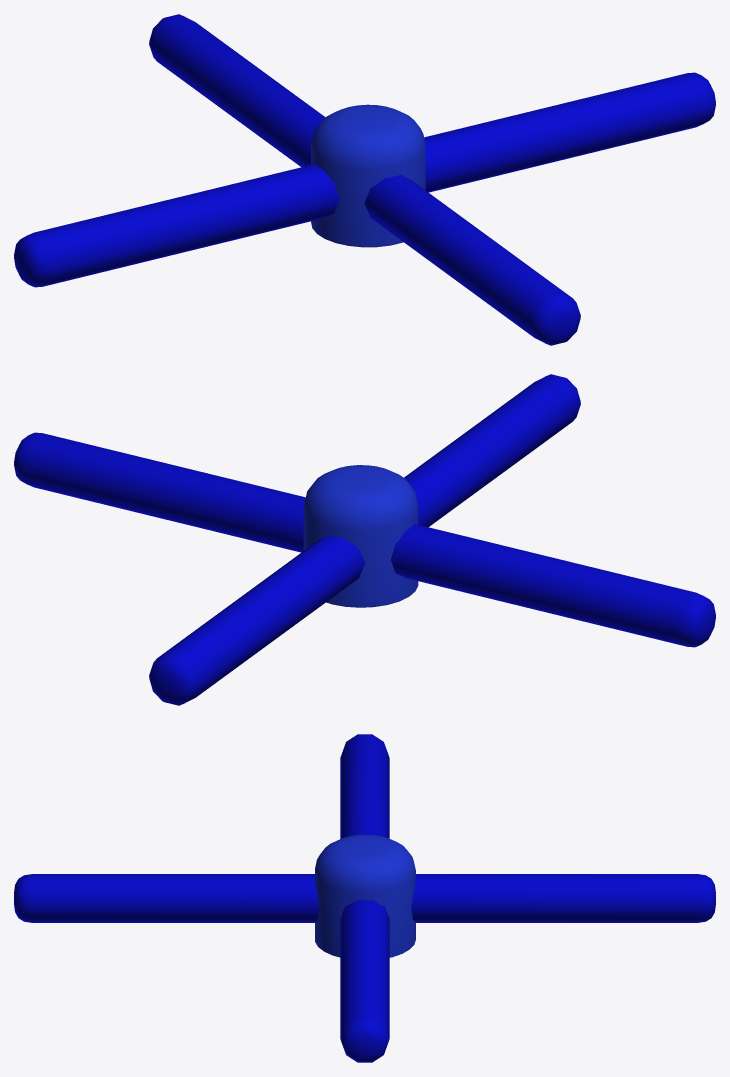
The model's file is barrier1.fbx.
The picture shows the model from 3 angles, top to bottom: view 1: azimuth 30°, elevation 25°; view 2: azimuth 150°, elevation 25°; view 3: azimuth 270°, elevation 25°; orthographic projection. The views are drawn at different scales.
Visible parts, largest first — view 1: Cylinder001, Cylinder003, Cylinder.009; view 2: Cylinder001, Cylinder003, Cylinder.009; view 3: Cylinder003, Cylinder001, Cylinder.009.
Part boxes in pixels (bbox=[...]): Cylinder001: bbox=[14, 72, 715, 287]; Cylinder003: bbox=[149, 14, 580, 345]; Cylinder.009: bbox=[311, 104, 425, 247]; Cylinder001: bbox=[14, 432, 715, 647]; Cylinder003: bbox=[149, 374, 580, 705]; Cylinder.009: bbox=[303, 465, 418, 607]; Cylinder003: bbox=[14, 874, 715, 922]; Cylinder001: bbox=[340, 734, 389, 1062]; Cylinder.009: bbox=[315, 834, 415, 957].
Bounding box in the file's own units: 1383 × 200 × 1383.
